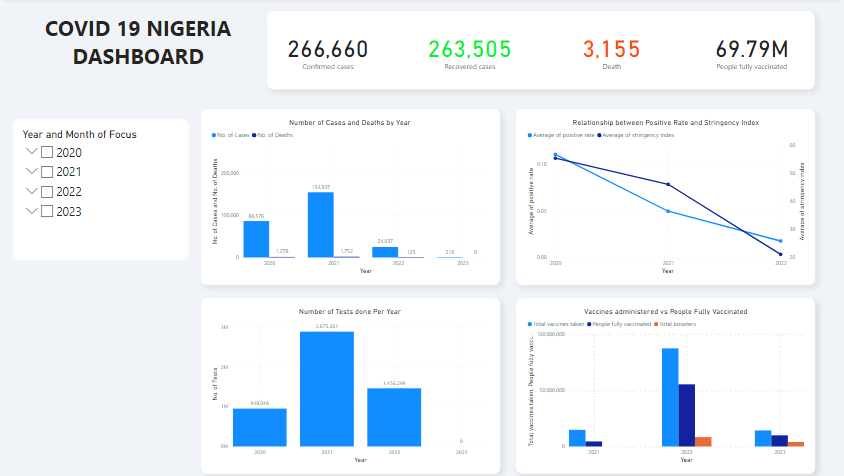

The dashboard page shown, as its layout file describes it:
{"tool":"powerbi","page":{"name":"Page 1","canvas":[1920,1080],"ordinal":0},"visuals":[{"type":"textbox","box":[83,20,460,170],"z":0},{"type":"shape","title":"Shape","box":[607.5,20,1245,177.5],"z":0,"group":"g5"},{"type":"shape","title":"Shape","box":[457.5,242.5,680,400],"z":0,"group":"g2"},{"type":"shape","title":"Shape","box":[1172.5,242.5,680,400],"z":0,"group":"g1"},{"type":"shape","box":[1172.5,672.5,680,400],"z":0,"group":"g4"},{"type":"shape","title":"Shape","box":[457.5,673,680,400],"z":0,"group":"g3"},{"type":"card","fields":{"Values":["Sum(To_power_BI.new_cases)"]},"box":[626,40,240,135],"z":1000,"group":"g5"},{"type":"group","id":"g1","title":"Group 1","box":[1172.5,242.5,680,400],"z":1000},{"type":"clusteredColumnChart","title":"Number of Cases and Deaths by Year","fields":{"Category":["To_power_BI.date.Variation.Date Hierarchy.Year","To_power_BI.date.Variation.Date Hierarchy.Month","To_power_BI.date.Variation.Date Hierarchy.Day"],"Y":["Sum(To_power_BI.new_cases)","Sum(To_power_BI.new_deaths)"]},"box":[476.7,263.3,640,360],"z":1000,"group":"g2"},{"type":"lineChart","title":"Relationship between Positive Rate and Stringency Index","fields":{"Category":["To_power_BI.date.Variation.Date Hierarchy.Year","To_power_BI.date.Variation.Date Hierarchy.Month","To_power_BI.date.Variation.Date Hierarchy.Day"],"Y":["Avg(To_power_BI.positive_rate)"],"Y2":["Avg(To_power_BI.stringency_index)"]},"box":[1193.3,263.3,640,360],"z":1000,"group":"g1"},{"type":"clusteredColumnChart","title":"Number of Tests done Per Year","fields":{"Category":["To_power_BI.date.Variation.Date Hierarchy.Year","To_power_BI.date.Variation.Date Hierarchy.Month","To_power_BI.date.Variation.Date Hierarchy.Day"],"Y":["Sum(To_power_BI.new_tests)"]},"box":[476.7,693,640,360],"z":1000,"group":"g3"},{"type":"clusteredColumnChart","title":"Vaccines administered vs People Fully Vaccinated","fields":{"Category":["To_power_BI.date.Variation.Date Hierarchy.Year","To_power_BI.date.Variation.Date Hierarchy.Month","To_power_BI.date.Variation.Date Hierarchy.Day"],"Y":["Sum(To_power_BI.total_vaccinations_daily_entry)","Sum(To_power_BI.people_fully_vaccinated_daily_entry)","Sum(To_power_BI.total_boosters_daily_entry)"]},"box":[1193.3,693,640,360],"z":1000,"group":"g4"},{"type":"card","fields":{"Values":["Sum(To_power_BI.new_deaths)"]},"box":[1272,40,240,135],"z":2000,"group":"g5"},{"type":"group","id":"g2","title":"Group 2","box":[457.5,242.5,680,400],"z":2000},{"type":"card","fields":{"Values":["To_power_BI.Measure"]},"box":[949,40,240,135],"z":3000,"group":"g5"},{"type":"group","id":"g3","title":"Group 3","box":[457.5,673,680,400],"z":3000},{"type":"card","fields":{"Values":["Sum(To_power_BI.people_fully_vaccinated_daily_entry)"]},"box":[1590,40,240,135],"z":4000,"group":"g5"},{"type":"group","id":"g4","title":"Group 4","box":[1172.5,672.5,680,400],"z":4000},{"type":"group","id":"g5","title":"Group 5","box":[607.5,20,1245,177.5],"z":5000},{"type":"shape","box":[30,265,400,320],"z":5500,"group":"g6"},{"type":"slicer","title":"Year and Month of Focus","fields":{"Values":["To_power_BI.date.Variation.Date Hierarchy.Year","To_power_BI.date.Variation.Date Hierarchy.Month"]},"box":[45.6,285,360,280],"z":6000,"group":"g6"},{"type":"group","id":"g6","title":"Group 6","box":[30,265,400,320],"z":6001}]}

Visuals, with their boxes in screenshot pixels (x1, y1, x2, y2), scaled from the page's 1920x1080 canvas onto the 844x476 screenshot:
textbox: Rect(36, 9, 239, 84)
"Shape" shape: Rect(267, 9, 814, 87)
"Shape" shape: Rect(201, 107, 500, 283)
"Shape" shape: Rect(515, 107, 814, 283)
shape: Rect(515, 296, 814, 473)
"Shape" shape: Rect(201, 297, 500, 473)
card - Sum(To_power_BI.new_cases): Rect(275, 18, 381, 77)
"Group 1" group: Rect(515, 107, 814, 283)
"Number of Cases and Deaths by Year" clusteredColumnChart: Rect(210, 116, 491, 275)
"Relationship between Positive Rate and Stringency Index" lineChart: Rect(525, 116, 806, 275)
"Number of Tests done Per Year" clusteredColumnChart: Rect(210, 305, 491, 464)
"Vaccines administered vs People Fully Vaccinated" clusteredColumnChart: Rect(525, 305, 806, 464)
card - Sum(To_power_BI.new_deaths): Rect(559, 18, 665, 77)
"Group 2" group: Rect(201, 107, 500, 283)
card - To_power_BI.Measure: Rect(417, 18, 523, 77)
"Group 3" group: Rect(201, 297, 500, 473)
card - Sum(To_power_BI.people_fully_vaccinated_daily_entry): Rect(699, 18, 804, 77)
"Group 4" group: Rect(515, 296, 814, 473)
"Group 5" group: Rect(267, 9, 814, 87)
shape: Rect(13, 117, 189, 258)
"Year and Month of Focus" slicer: Rect(20, 126, 178, 249)
"Group 6" group: Rect(13, 117, 189, 258)
